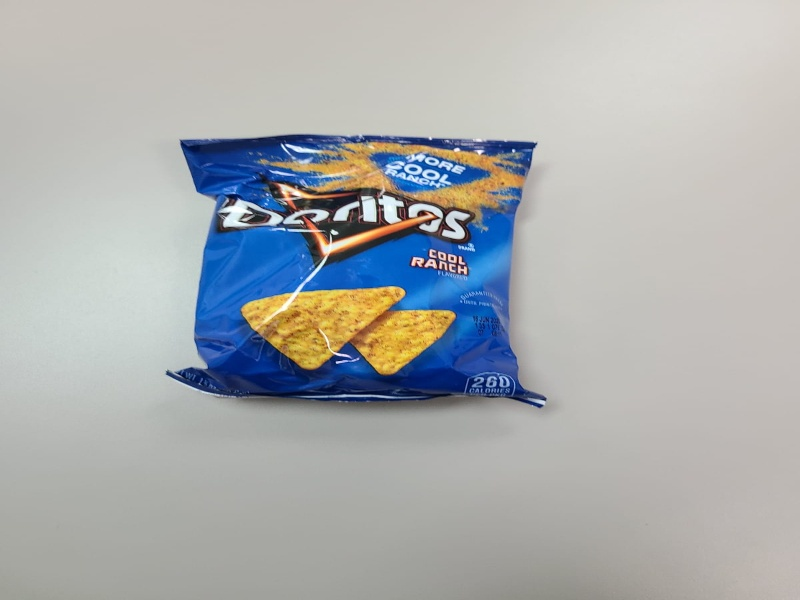doritos: (170, 132, 555, 411)
